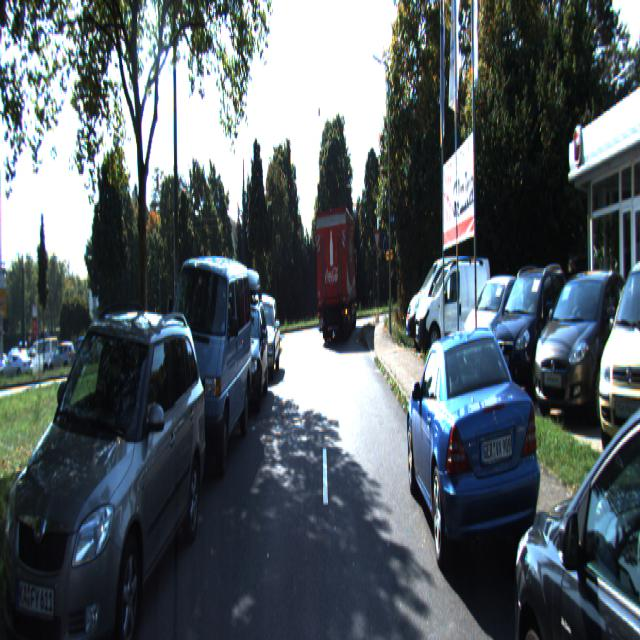Car: (0, 309, 210, 638), (510, 319, 640, 638), (404, 323, 550, 605), (157, 238, 255, 479), (530, 267, 640, 433), (487, 273, 572, 403), (592, 240, 640, 468), (403, 257, 493, 357), (413, 260, 488, 364), (460, 272, 530, 378), (219, 291, 271, 422), (313, 208, 358, 348), (244, 286, 282, 380)
